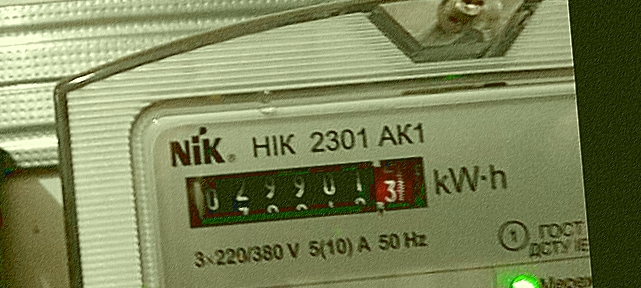0: (199, 182, 219, 210), (317, 166, 335, 196)
1: (348, 162, 363, 191)
2: (228, 173, 249, 202)
3: (378, 175, 397, 202)
9: (258, 171, 276, 199), (289, 169, 304, 198)
screen: (172, 143, 438, 237)
